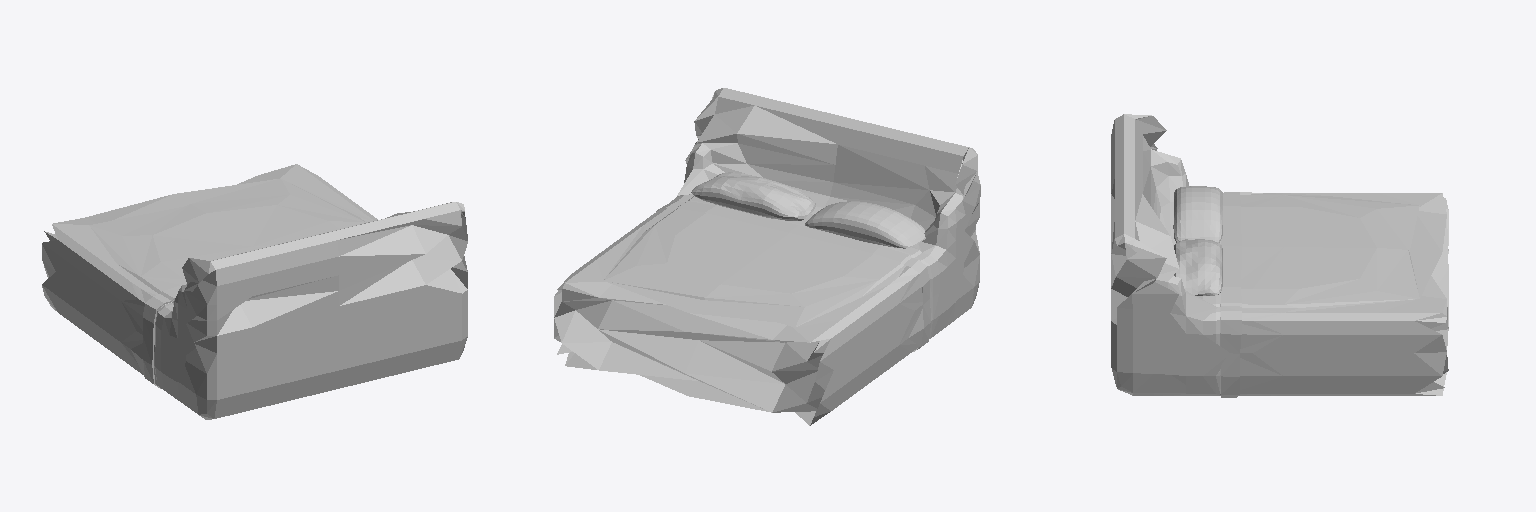
Rendered from bed.obj.
The picture shows the model from 3 angles: view 1: azimuth 30°, elevation 25°; view 2: azimuth 150°, elevation 25°; view 3: azimuth 270°, elevation 25°; orthographic projection.
Visible parts, largest first — view 1: pCube1; view 2: pCube1, pCube2, pCube3; view 3: pCube1, pCube3, pCube2.
Part boxes in pixels (left/top/right/bottom): pCube1: left=42, top=164, right=467, bottom=419; pCube1: left=554, top=88, right=980, bottom=425; pCube2: left=691, top=172, right=815, bottom=220; pCube3: left=805, top=201, right=925, bottom=248; pCube1: left=1111, top=114, right=1448, bottom=397; pCube3: left=1173, top=186, right=1222, bottom=242; pCube2: left=1174, top=239, right=1222, bottom=295.
Size of the model in its own units: 3.01 by 1.75 by 3.27.